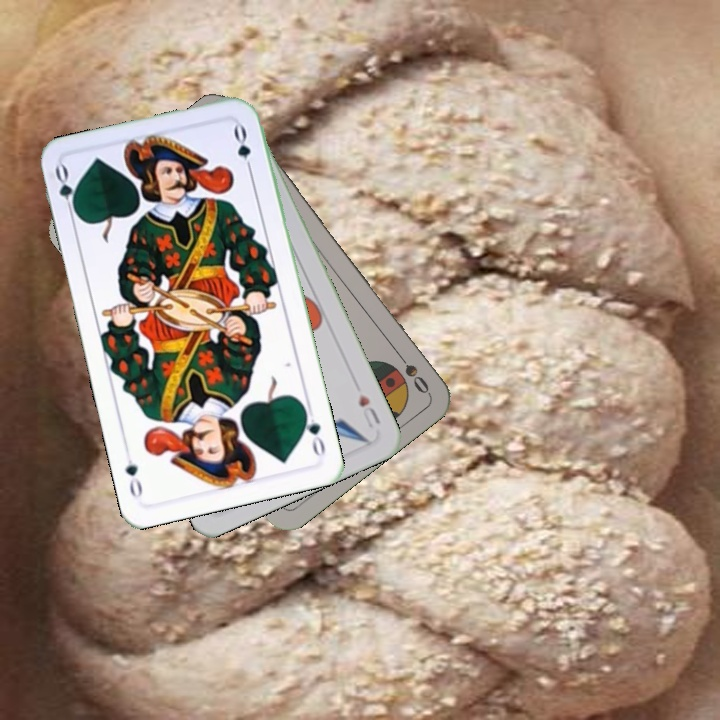GO: (51, 161, 81, 220), (299, 402, 328, 459)
HU: (354, 390, 383, 431)
SO: (390, 345, 432, 397)
